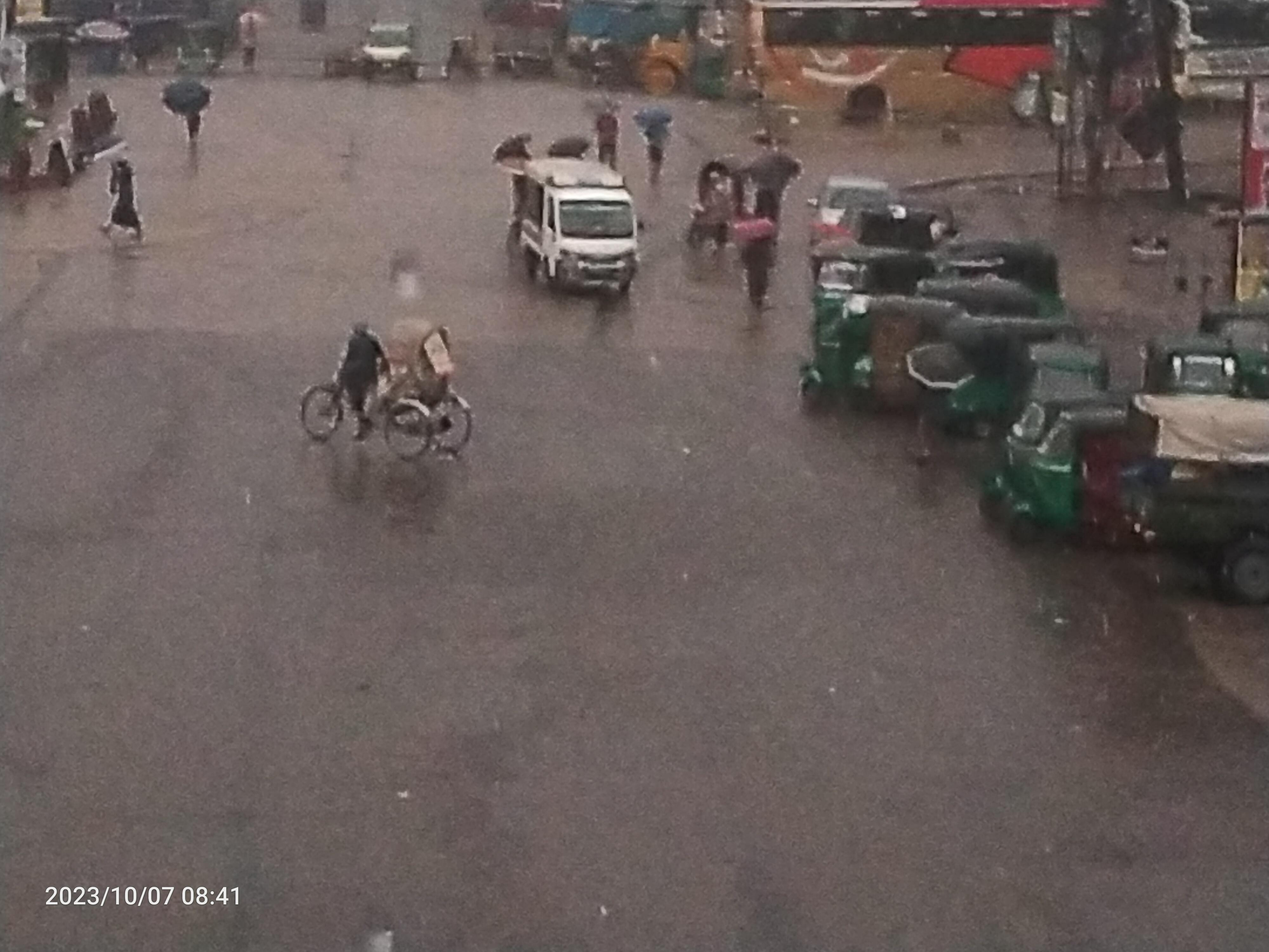Bus: (730, 0, 1136, 154), (1159, 0, 1269, 122)
Car: (272, 293, 504, 497), (490, 125, 669, 337), (341, 7, 431, 92)
